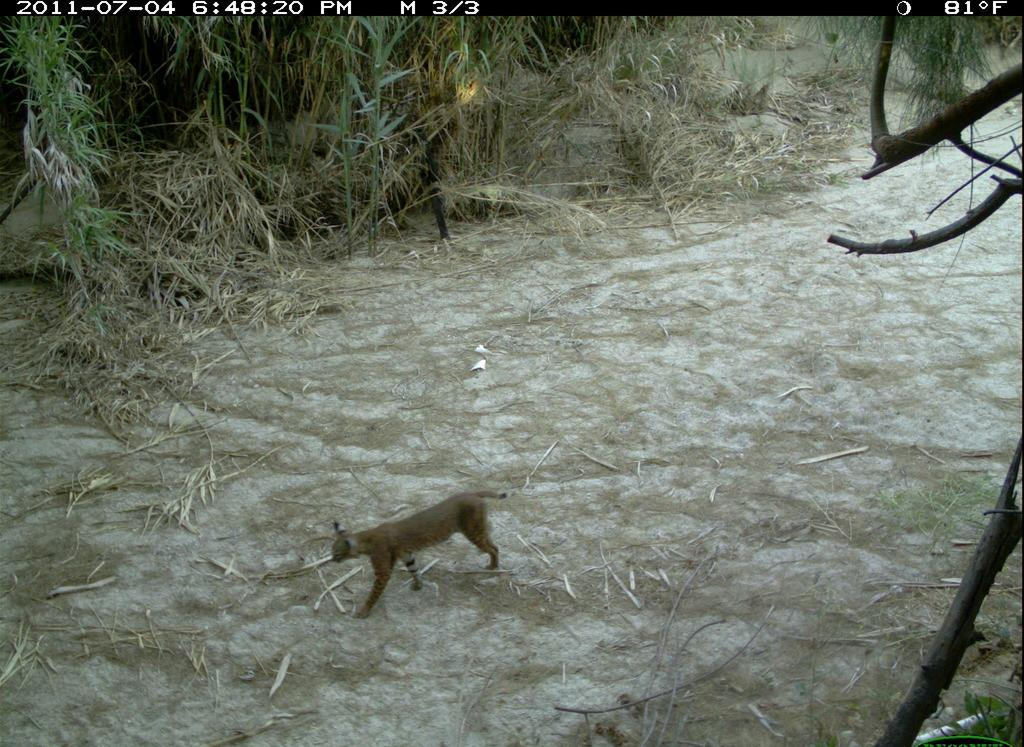bobcat: (324, 483, 514, 616)
